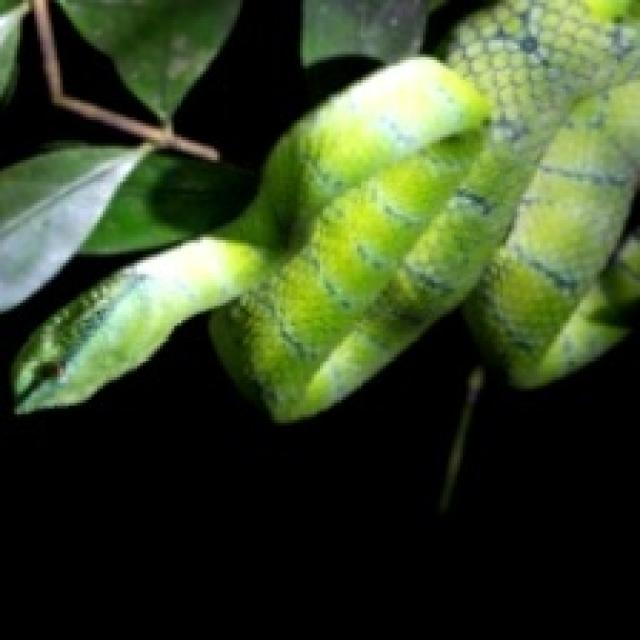north ph temple pitviper: (11, 0, 637, 420)
